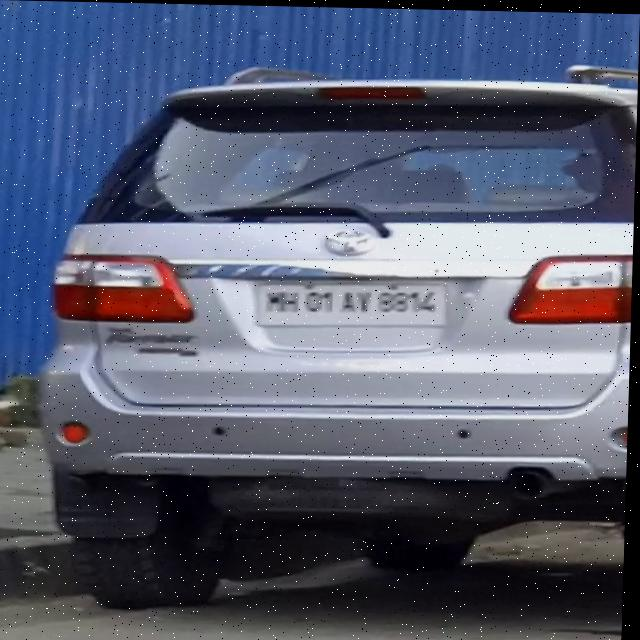plate: (254, 277, 454, 330)
